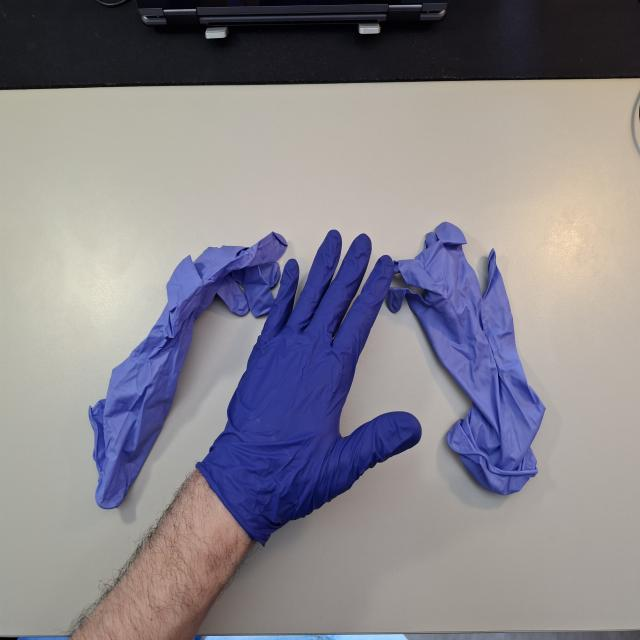glove_on: (206, 226, 425, 550)
